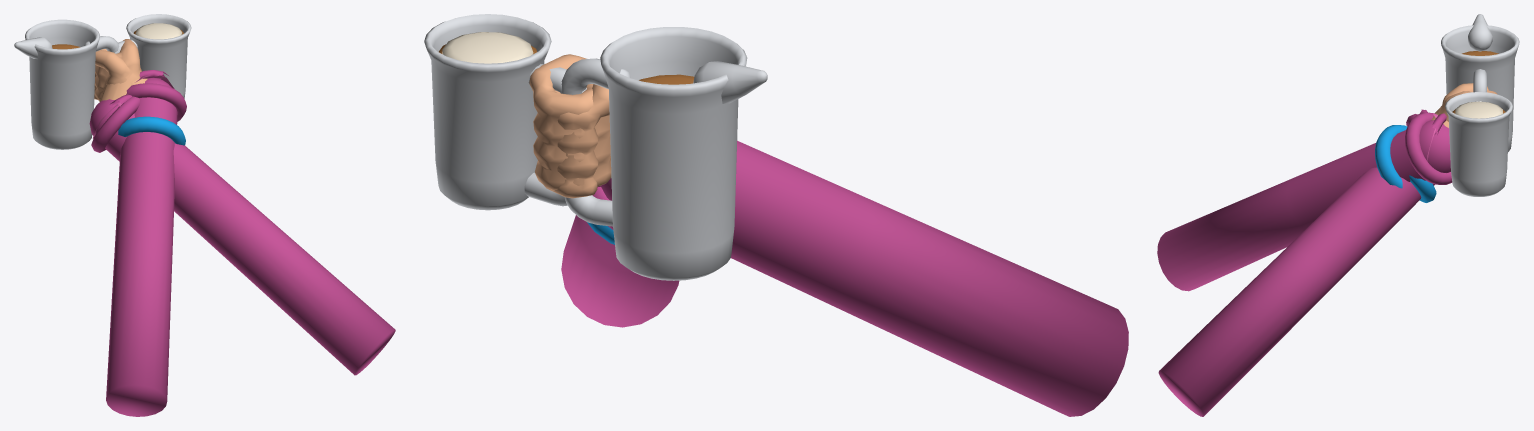
Rendered from tarik.glb.
The picture shows the model from 3 angles, left to right: view 1: azimuth 30°, elevation 25°; view 2: azimuth 150°, elevation 25°; view 3: azimuth 270°, elevation 25°; orthographic projection. The views are drawn at different scales.
Parts seen in each view (by area): view 1: R, L; view 2: L, R; view 3: R, L.
Boxes of the visible parts, bbox=[...] form: R: bbox=[14, 19, 395, 375]; L: bbox=[94, 14, 191, 416]; L: bbox=[424, 14, 1128, 416]; R: bbox=[529, 27, 767, 327]; R: bbox=[1158, 14, 1519, 416]; L: bbox=[1157, 83, 1512, 291].
Size of the model in its own units: 0.5196 by 0.4875 by 0.5439.
